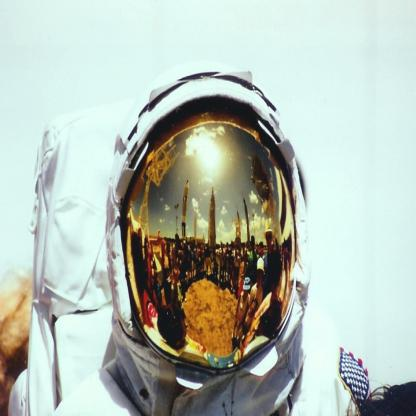Helmet: (106, 49, 290, 410)
